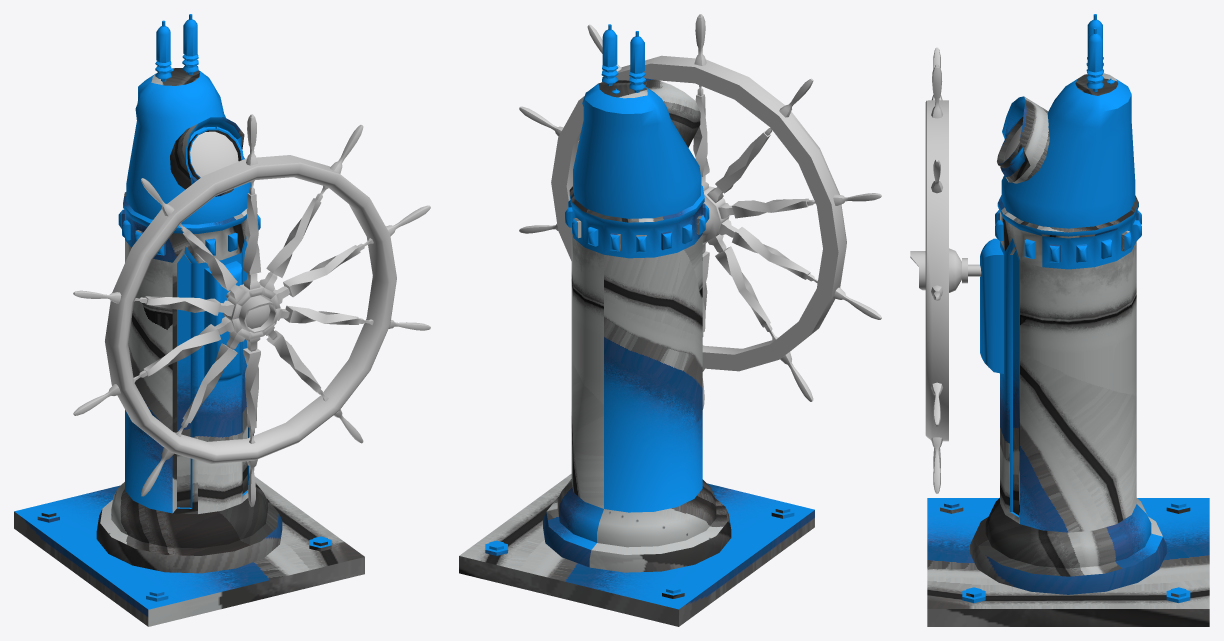
The model's file is Control Wheel Animatable.fbx.
The picture shows the model from 3 angles, left to right: view 1: azimuth 30°, elevation 25°; view 2: azimuth 150°, elevation 25°; view 3: azimuth 270°, elevation 25°; orthographic projection. The views are drawn at different scales.
Parts seen in each view (by area): view 1: Base, Wheel; view 2: Base, Wheel; view 3: Base, Wheel.
Part boxes in pixels (x1=…): Base: x1=14, y1=14, x2=364, y2=626; Wheel: x1=73, y1=114, x2=430, y2=506; Base: x1=459, y1=24, x2=814, y2=626; Wheel: x1=519, y1=14, x2=881, y2=409; Base: x1=927, y1=14, x2=1209, y2=626; Wheel: x1=910, y1=47, x2=981, y2=493.
Size of the model in its own units: 136 by 191 by 94.06.
